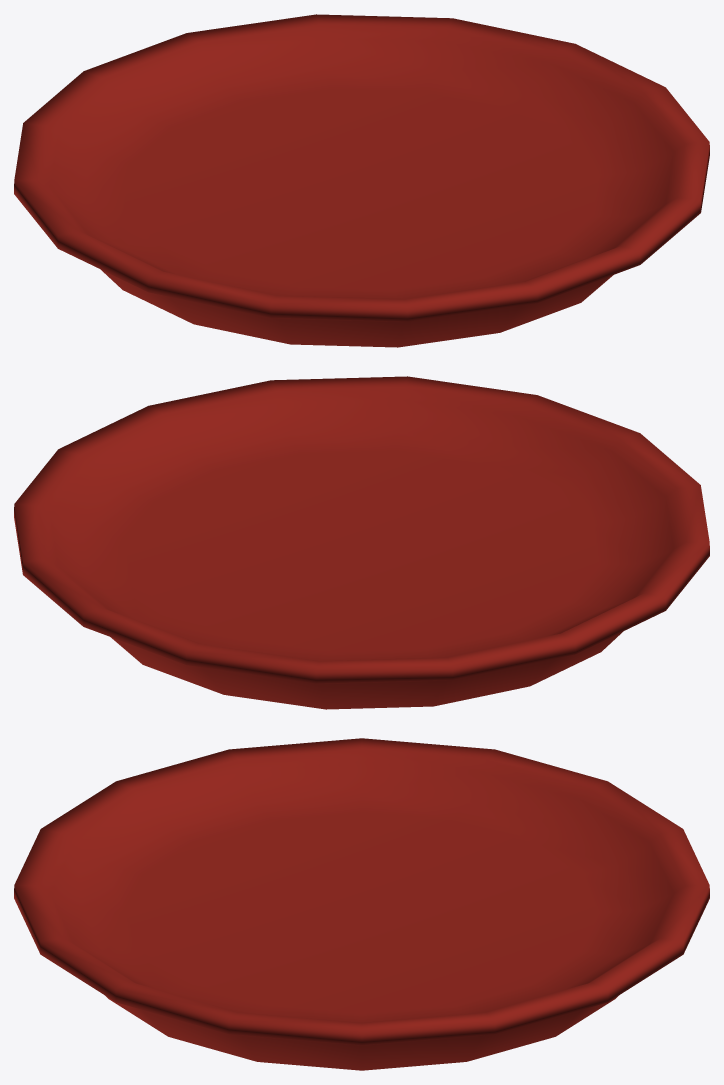
Rendered from TrayCircular.glb.
3 views of the same model, one above another, from view 1: azimuth 30°, elevation 25°; view 2: azimuth 150°, elevation 25°; view 3: azimuth 270°, elevation 25° (orthographic).
Visible parts, largest first — view 1: Cylinder; view 2: Cylinder; view 3: Cylinder.
Part boxes in pixels (left/top/right/bottom): Cylinder: left=14, top=14, right=709, bottom=347; Cylinder: left=14, top=376, right=709, bottom=709; Cylinder: left=14, top=738, right=709, bottom=1070.
Bounding box in the file's own units: 1 × 0.116 × 1.
